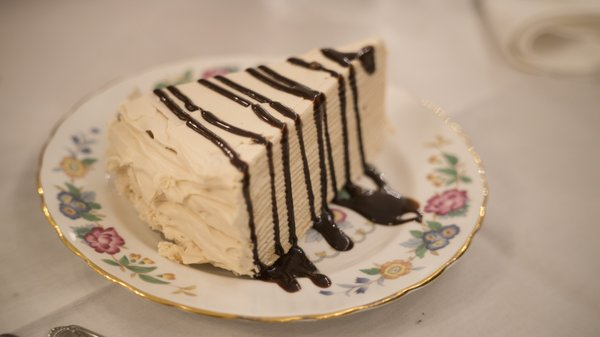pizza: (475, 1, 600, 79)
